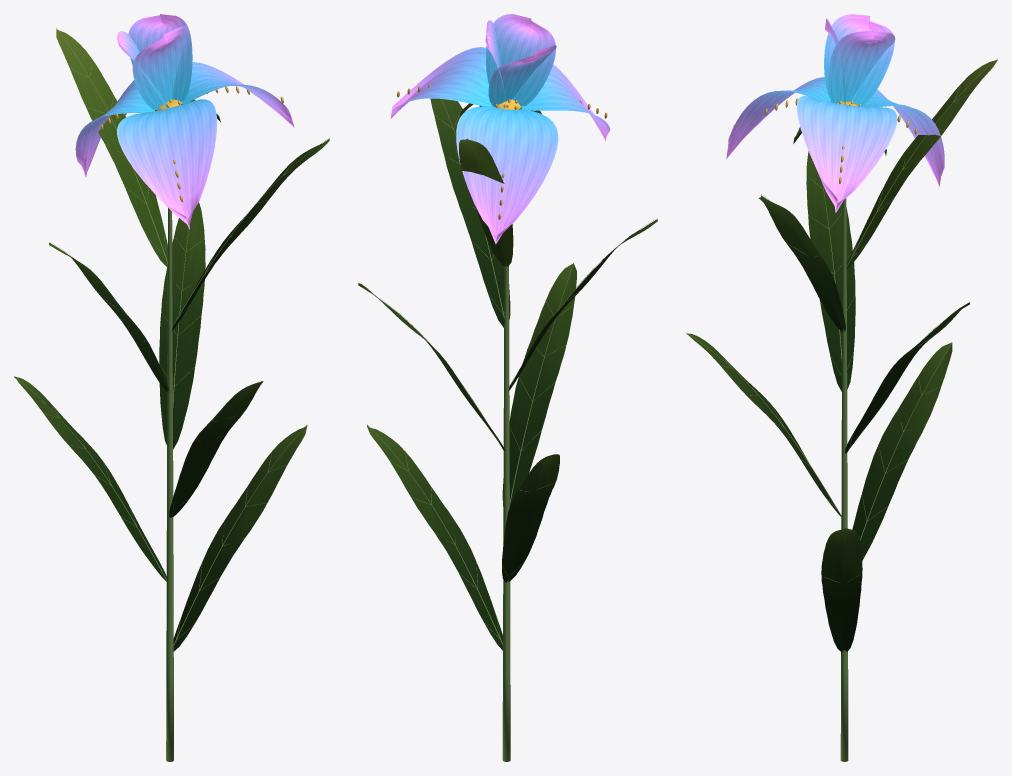
File: iris-dream-10.glb
The picture shows the model from 3 angles, left to right: view 1: azimuth 30°, elevation 25°; view 2: azimuth 150°, elevation 25°; view 3: azimuth 270°, elevation 25°; orthographic projection.
Visible parts, largest first — view 1: iris_dream_stage_10_leaf_veins.020, iris_dream_stage_10_iris_petal.020, iris_dream_stage_10_young_leaf.020, iris_dream_stage_10_stem_fibres.020, iris_dream_stage_10_raised_midveins.020; view 2: iris_dream_stage_10_leaf_veins.020, iris_dream_stage_10_iris_petal.020, iris_dream_stage_10_stem_fibres.020, iris_dream_stage_10_young_leaf.020, iris_dream_stage_10_raised_midveins.020; view 3: iris_dream_stage_10_leaf_veins.020, iris_dream_stage_10_iris_petal.020, iris_dream_stage_10_young_leaf.020, iris_dream_stage_10_stem_fibres.020, iris_dream_stage_10_raised_midveins.020.
Part boxes in pixels (bbox=[...]): iris_dream_stage_10_leaf_veins.020: bbox=[14, 99, 329, 651]; iris_dream_stage_10_iris_petal.020: bbox=[75, 14, 294, 229]; iris_dream_stage_10_young_leaf.020: bbox=[56, 29, 192, 267]; iris_dream_stage_10_stem_fibres.020: bbox=[166, 208, 173, 761]; iris_dream_stage_10_raised_midveins.020: bbox=[16, 28, 328, 645]; iris_dream_stage_10_leaf_veins.020: bbox=[358, 98, 657, 650]; iris_dream_stage_10_iris_petal.020: bbox=[390, 14, 610, 244]; iris_dream_stage_10_stem_fibres.020: bbox=[502, 266, 510, 761]; iris_dream_stage_10_young_leaf.020: bbox=[459, 105, 532, 266]; iris_dream_stage_10_raised_midveins.020: bbox=[367, 99, 657, 645]; iris_dream_stage_10_leaf_veins.020: bbox=[686, 127, 969, 652]; iris_dream_stage_10_iris_petal.020: bbox=[726, 14, 944, 212]; iris_dream_stage_10_young_leaf.020: bbox=[846, 59, 997, 269]; iris_dream_stage_10_stem_fibres.020: bbox=[840, 198, 848, 761]; iris_dream_stage_10_raised_midveins.020: bbox=[687, 58, 997, 582].
Bounding box in the file's own units: 0.3134 × 0.8067 × 0.3097.
6 materials, 3 textured.
